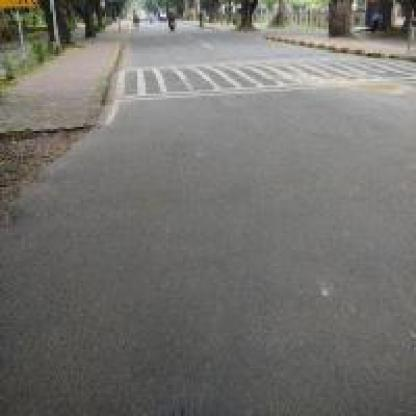Speed Bump: (118, 52, 412, 104)
